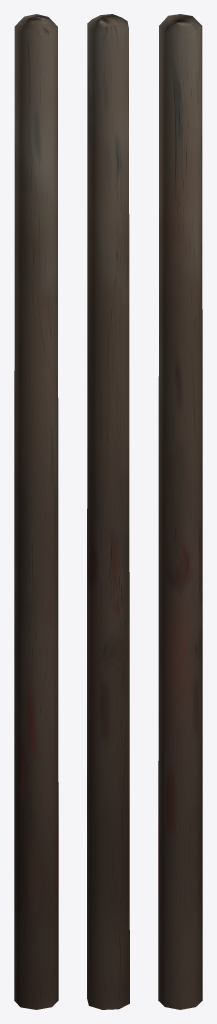
Rendered from md_utilitypole_v7.fbx.
3 views of the same model, side by side, from view 1: azimuth 90°, elevation 25°; view 2: azimuth 210°, elevation 25°; view 3: azimuth 270°, elevation 25° (orthographic).
Parts seen in each view (by area): view 1: PoleSubdivided; view 2: PoleSubdivided; view 3: PoleSubdivided.
Boxes of the visible parts, x1=… form: PoleSubdivided: x1=14, y1=14, x2=58, y2=1009; PoleSubdivided: x1=87, y1=14, x2=129, y2=1009; PoleSubdivided: x1=158, y1=14, x2=202, y2=1009.
Bounding box in the file's own units: 34.46 × 834 × 34.23.
